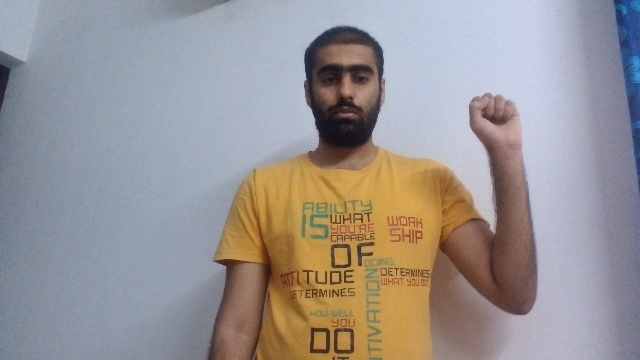rock: (468, 91, 523, 153)
